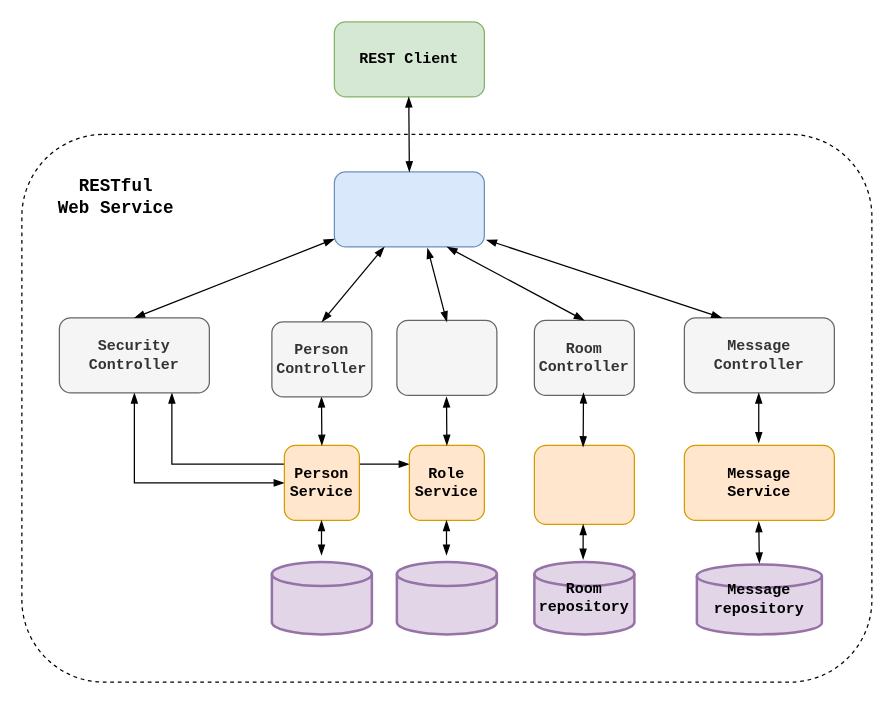
The diagram is 894 pixels wide and 705 high, and some of its shapes have lost their labels. Here are the shapes that lost their labels. From the top down, the box of each, then its label:
(333, 171, 484, 247): Authorization Filter
(396, 319, 497, 395): Role Controller
(533, 444, 634, 524): Room Service
(270, 560, 372, 635): Person repository
(395, 560, 498, 635): Role repository
